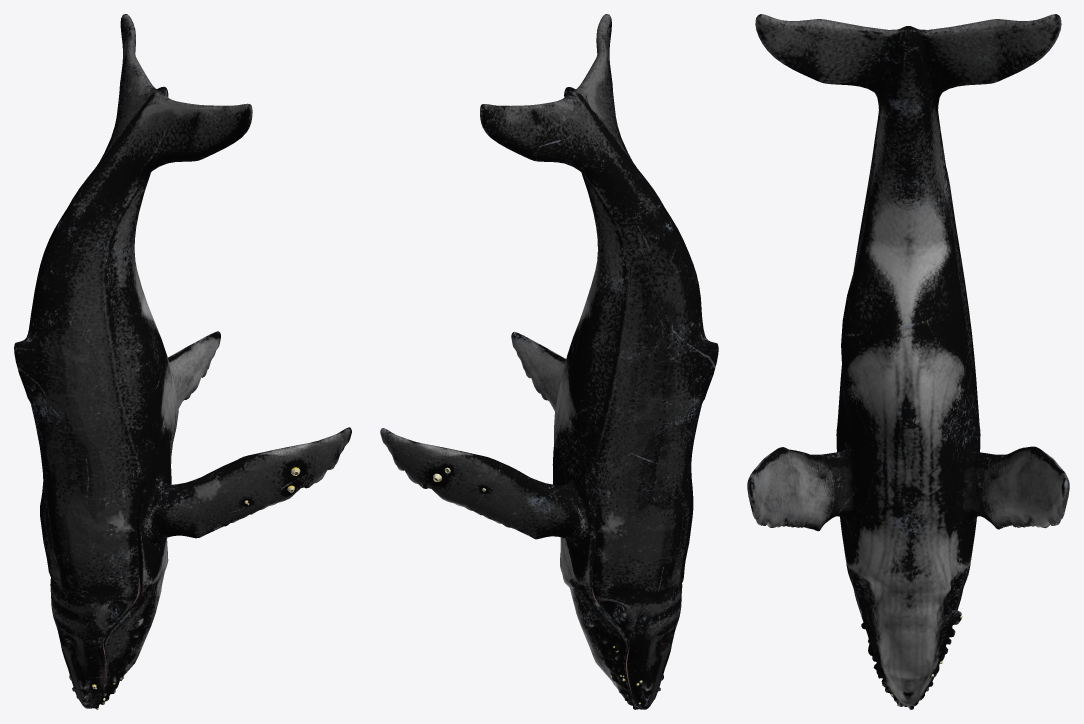
Rendered from humpback.glb.
3 renders of one model, left to right at view 1: azimuth 30°, elevation 25°; view 2: azimuth 150°, elevation 25°; view 3: azimuth 270°, elevation 25°, orthographic. The views are drawn at different scales.
Parts seen in each view (by area): view 1: body; view 2: body; view 3: body.
Boxes of the visible parts, x1,y1,x2,y2 form: body: (14,14,351,708); body: (380,14,718,709); body: (747,14,1069,709).
Bounding box in the file's own units: 6.37 × 14 × 5.47.
Materials: 3 (3 with a texture image).
